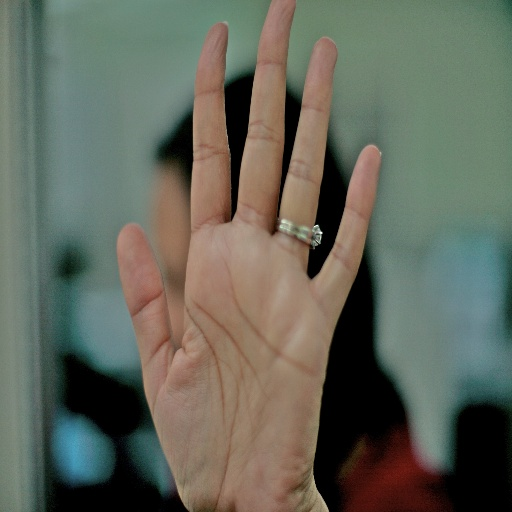hand: (115, 0, 382, 511)
